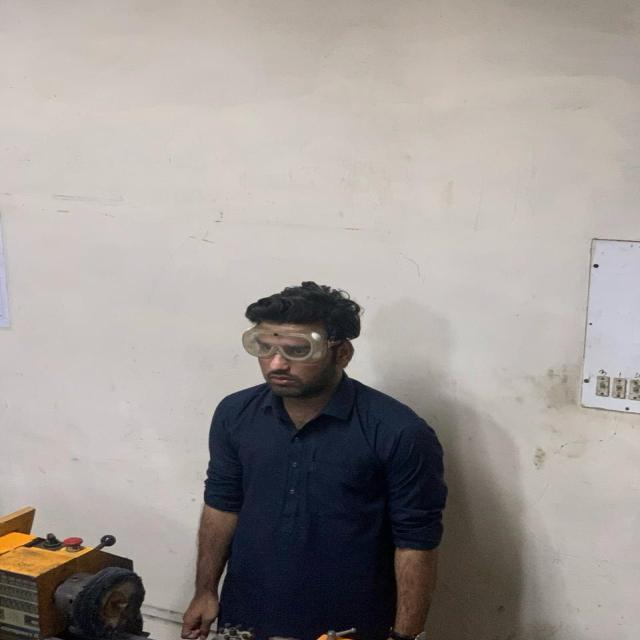googles: (241, 324, 323, 360)
